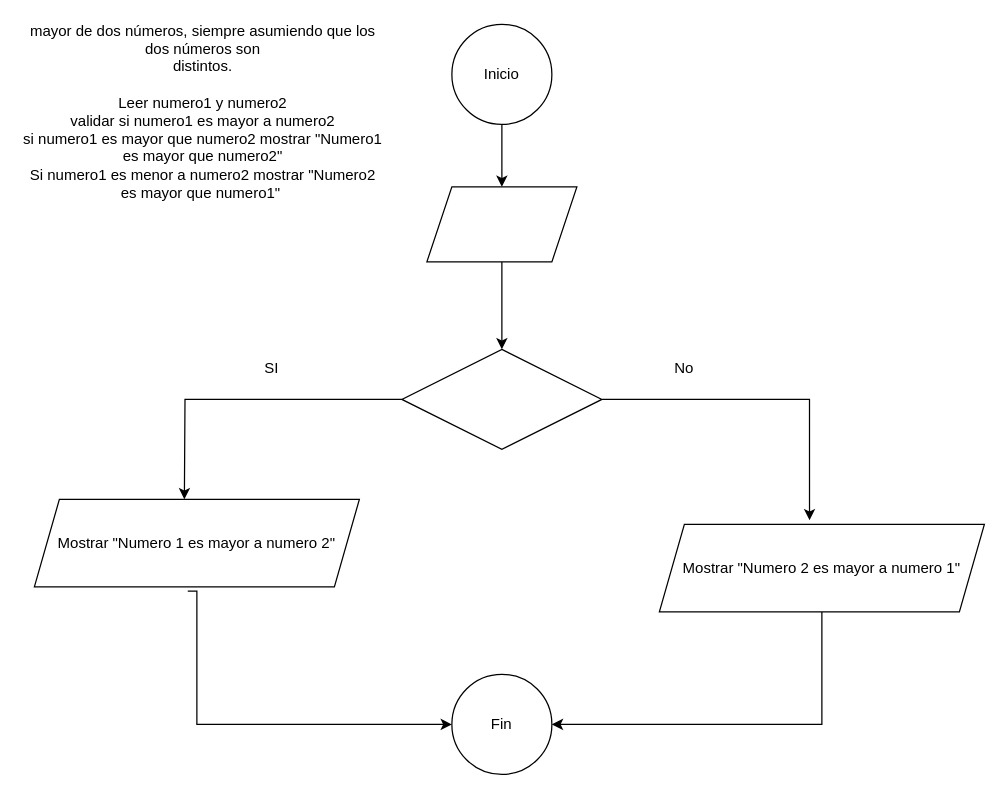
Some shapes in this 1006 by 796 pixel diagram are drawn without their labels. The centre of each missing label's shape, as x and y in pixels:
"Leer numero1, numero2" goes at (x=501, y=224).
"numero1>numero2" goes at (x=501, y=398).
